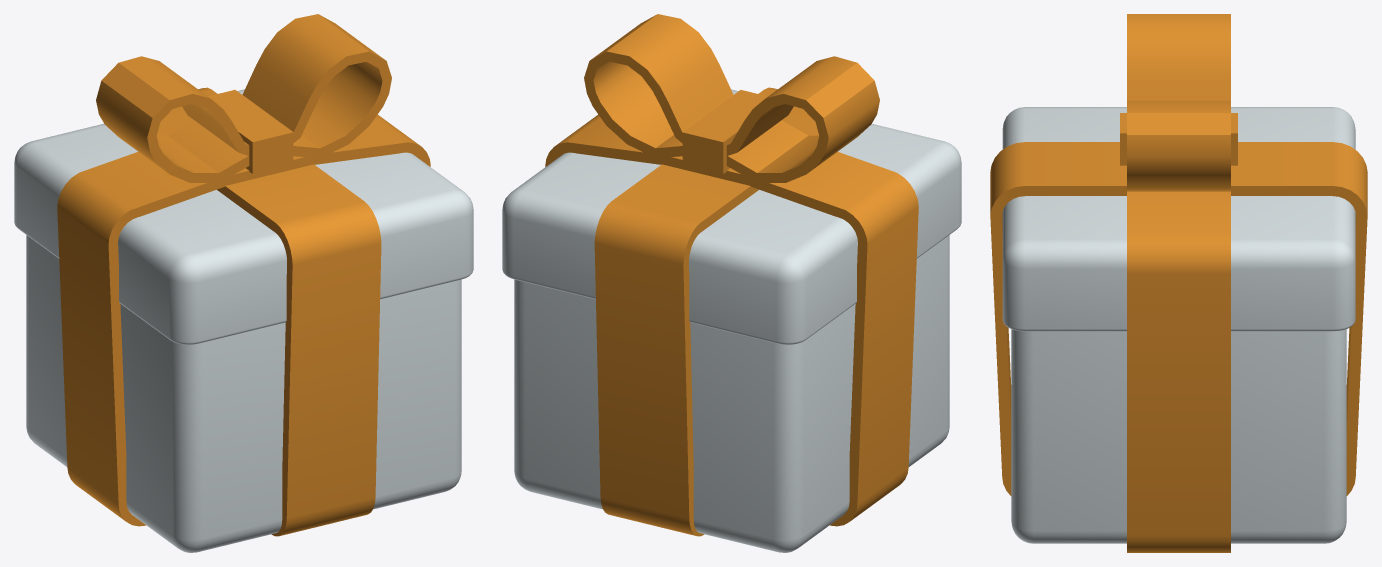
File: present1.glb
3 renders of one model, left to right at view 1: azimuth 30°, elevation 25°; view 2: azimuth 150°, elevation 25°; view 3: azimuth 270°, elevation 25°, orthographic.
Visible parts, largest first — view 1: Box.001, Box, ribbon.001, ribbon.002, ribbon.003, ribbon; view 2: Box.001, Box, ribbon.001, ribbon.002, ribbon.003, ribbon; view 3: Box.001, Box, ribbon.002, ribbon.001, ribbon.003, ribbon.
Part boxes in pixels (x1=…): Box.001: x1=26, y1=235, x2=461, y2=552; Box: x1=14, y1=89, x2=473, y2=344; ribbon.001: x1=157, y1=87, x2=381, y2=536; ribbon.002: x1=57, y1=114, x2=430, y2=526; ribbon.003: x1=96, y1=14, x2=391, y2=182; ribbon: x1=208, y1=90, x2=293, y2=173; Box.001: x1=514, y1=235, x2=949, y2=552; Box: x1=502, y1=89, x2=961, y2=344; ribbon.001: x1=594, y1=87, x2=818, y2=536; ribbon.002: x1=545, y1=114, x2=918, y2=526; ribbon.003: x1=584, y1=14, x2=879, y2=182; ribbon: x1=682, y1=90, x2=767, y2=173; Box.001: x1=1011, y1=329, x2=1346, y2=543; Box: x1=1002, y1=107, x2=1355, y2=331; ribbon.002: x1=1127, y1=191, x2=1230, y2=552; ribbon.001: x1=990, y1=142, x2=1367, y2=495; ribbon.003: x1=1127, y1=14, x2=1230, y2=191; ribbon: x1=1120, y1=113, x2=1237, y2=165.
Size of the model in its own units: 1.92 by 2.4 by 1.92.
